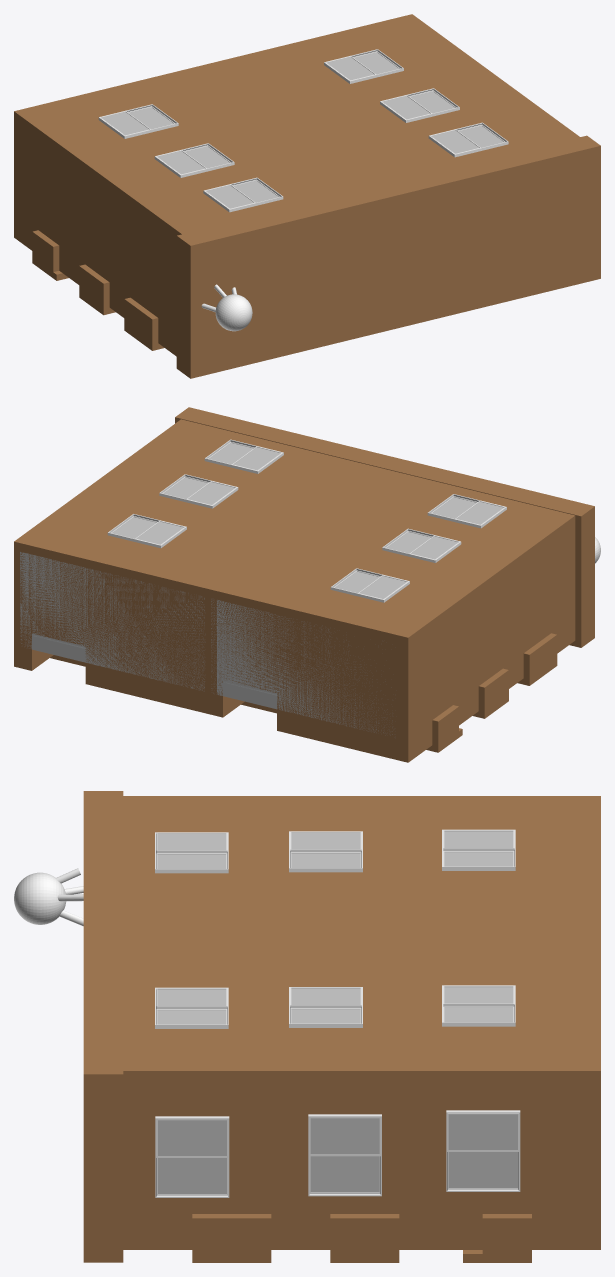
Rendered from tinker 25.obj.
3 renders of one model, top to bottom at view 1: azimuth 30°, elevation 25°; view 2: azimuth 150°, elevation 25°; view 3: azimuth 270°, elevation 25°, orthographic. The views are drawn at different scales.
Visible parts, largest first — view 1: obj_13, obj_12, obj_34, obj_35, obj_38, obj_39, obj_40, obj_42, obj_43, obj_41, obj_17, obj_9 (+2 smaller); view 2: obj_13, obj_35, obj_37, obj_15, obj_12, obj_34, obj_41, obj_39, obj_42, obj_43, obj_38, obj_40 (+5 smaller); view 3: obj_35, obj_13, obj_34, obj_12, obj_44, obj_46, obj_45, obj_38, obj_39, obj_40, obj_42, obj_43 (+8 smaller).
Boxes of the visible parts, x1,y1,x2,y2 form: obj_13: (14,61,386,356); obj_12: (176,182,407,378); obj_34: (376,135,600,330); obj_35: (219,14,579,186); obj_38: (203,177,283,212); obj_39: (428,122,508,157); obj_40: (154,143,234,177); obj_42: (98,104,178,138); obj_43: (324,49,403,83); obj_41: (380,88,459,122); obj_17: (215,294,252,331); obj_9: (131,302,158,350); obj_13: (205,466,575,762); obj_35: (14,419,382,715); obj_37: (20,552,205,691); obj_15: (211,599,392,735); obj_12: (366,454,594,647); obj_34: (175,407,401,469); obj_41: (159,474,238,508); obj_39: (204,439,283,473); obj_42: (330,568,409,602); obj_43: (107,514,186,548); obj_38: (427,494,506,528); obj_40: (382,528,461,562); obj_35: (123,929,600,1249); obj_13: (123,796,600,929); obj_34: (83,935,123,1262); obj_12: (83,791,123,940); obj_44: (155,1116,229,1197); obj_46: (446,1110,520,1191); obj_45: (308,1114,381,1196); obj_38: (155,832,228,873); obj_39: (155,987,228,1028); obj_40: (289,831,362,872); obj_42: (442,829,515,870); obj_43: (442,985,515,1026).
Size of the model in its own units: 68 by 21.73 by 59.52.
